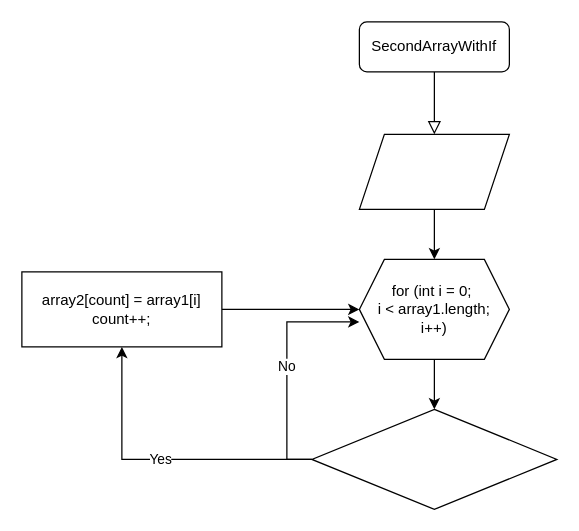
Some shapes in this 579 by 531 pixel diagram are drawn without their labels. Each missing label, with the centre of its shape:
"if (array1[i].length <= 3)" belongs at (434,458).
"Strng[] array1 String array2 int count = 0" belongs at (433,171).
